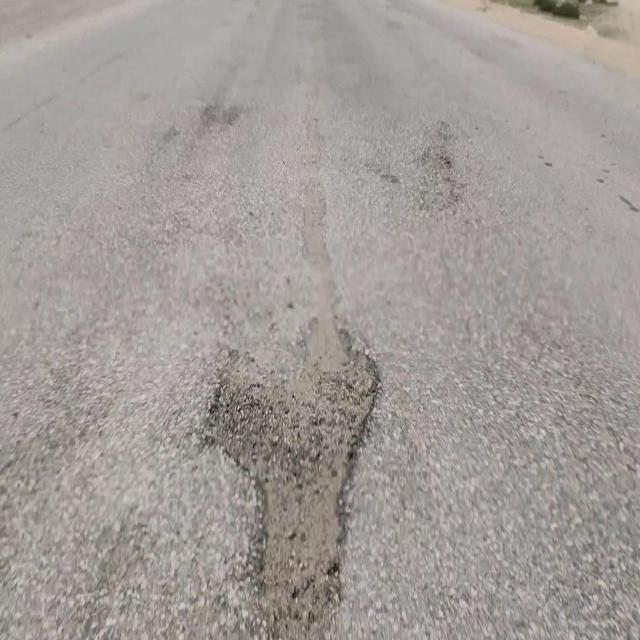Potholes: (201, 314, 385, 636)
